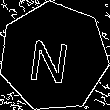N_N: (31, 29, 77, 84)
